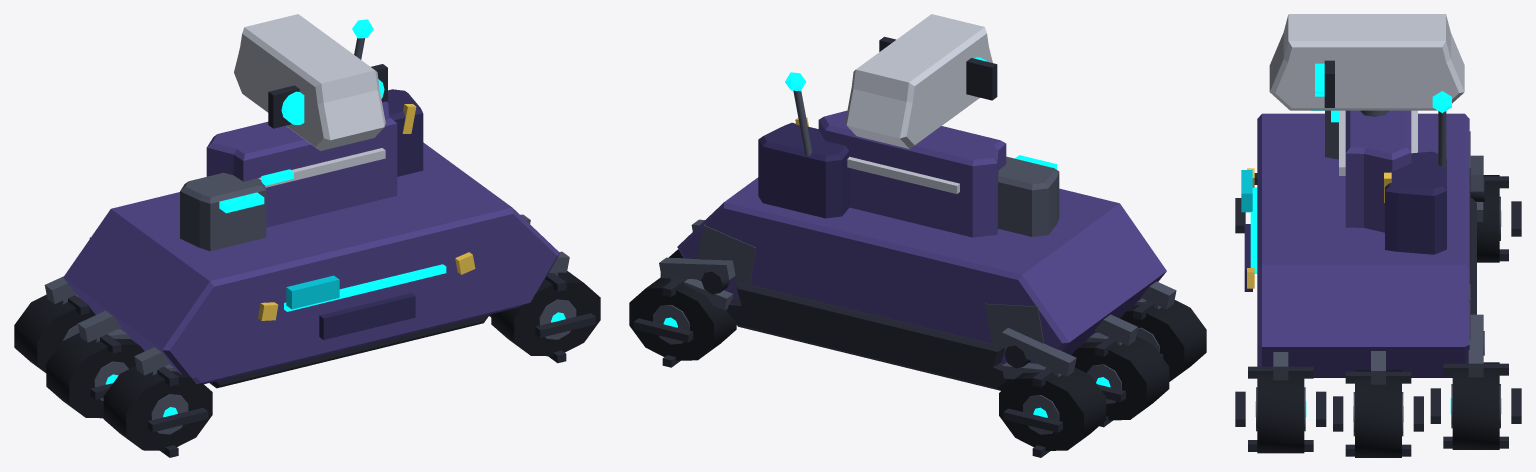
The model's file is kawsay_1_v2.glb.
The picture shows the model from 3 angles, left to right: view 1: azimuth 30°, elevation 25°; view 2: azimuth 150°, elevation 25°; view 3: azimuth 270°, elevation 25°; orthographic projection. The views are drawn at different scales.
Parts seen in each view (by area): view 1: Chassis_HexFrontVioletShell, NavCam_WideBeveledHead, UpperDeck_NarrowVioletDeck, Wheel_FL_CharcoalTire, InstrumentModule_MetalHousing, Wheel_FR_CharcoalTire, Wheel_ML_CharcoalTire, Wheel_RL_CharcoalTire, Chassis_DarkFrontInset, Chassis_GraphiteUnderside, PowerModule_CompactDarkViolet, FrontInstrumentSensor (+11 smaller); view 2: Chassis_HexFrontVioletShell, UpperDeck_NarrowVioletDeck, NavCam_WideBeveledHead, Chassis_GraphiteUnderside, PowerModule_CompactDarkViolet, Wheel_RL_CharcoalTire, Wheel_RR_CharcoalTire, InstrumentModule_MetalHousing, Wheel_ML_CharcoalTire, Wheel_FL_CharcoalTire, Chassis_RightMetalSlope, Chassis_LeftMetalSlope (+12 smaller); view 3: Chassis_HexFrontVioletShell, NavCam_WideBeveledHead, UpperDeck_NarrowVioletDeck, PowerModule_CompactDarkViolet, Wheel_RR_CharcoalTire, Wheel_FR_CharcoalTire, Wheel_MR_CharcoalTire, Wheel_RL_CharcoalTire, Wheel_RR, Wheel_MR, Wheel_FR, Chassis_GraphiteUnderside (+15 smaller).
Boxes of the visible parts, <box> form: Chassis_HexFrontVioletShell: <box>63,142,559,384</box>; NavCam_WideBeveledHead: <box>234,14,385,150</box>; UpperDeck_NarrowVioletDeck: <box>206,101,397,227</box>; Wheel_FL_CharcoalTire: <box>103,366,212,450</box>; InstrumentModule_MetalHousing: <box>180,172,266,251</box>; Wheel_FR_CharcoalTire: <box>491,271,600,356</box>; Wheel_ML_CharcoalTire: <box>46,333,144,418</box>; Wheel_RL_CharcoalTire: <box>14,294,95,372</box>; Chassis_DarkFrontInset: <box>319,293,415,339</box>; Chassis_GraphiteUnderside: <box>209,314,489,388</box>; PowerModule_CompactDarkViolet: <box>385,89,423,176</box>; FrontInstrumentSensor: <box>286,275,339,309</box>; Chassis_HexFrontVioletShell: <box>677,177,1166,363</box>; UpperDeck_NarrowVioletDeck: <box>818,110,1006,237</box>; NavCam_WideBeveledHead: <box>845,14,992,148</box>; Chassis_GraphiteUnderside: <box>726,281,1013,390</box>; PowerModule_CompactDarkViolet: <box>758,122,849,218</box>; Wheel_RL_CharcoalTire: <box>999,367,1106,450</box>; Wheel_RR_CharcoalTire: <box>629,277,736,360</box>; InstrumentModule_MetalHousing: <box>998,156,1059,236</box>; Wheel_ML_CharcoalTire: <box>1071,336,1169,420</box>; Wheel_FL_CharcoalTire: <box>1120,300,1206,381</box>; Chassis_RightMetalSlope: <box>697,224,756,284</box>; Chassis_LeftMetalSlope: <box>985,303,1043,344</box>; Chassis_HexFrontVioletShell: <box>1257,113,1469,377</box>; NavCam_WideBeveledHead: <box>1269,14,1464,110</box>; UpperDeck_NarrowVioletDeck: <box>1345,110,1411,232</box>; PowerModule_CompactDarkViolet: <box>1385,151,1446,254</box>; Wheel_RR_CharcoalTire: <box>1452,362,1499,449</box>; Wheel_FR_CharcoalTire: <box>1257,375,1304,453</box>; Wheel_MR_CharcoalTire: <box>1355,370,1401,457</box>; Wheel_RL_CharcoalTire: <box>1477,175,1499,262</box>; Wheel_RR: <box>1430,363,1521,448</box>; Wheel_MR: <box>1333,371,1423,456</box>; Wheel_FR: <box>1235,366,1326,451</box>; Chassis_GraphiteUnderside: <box>1313,198,1476,377</box>.
Bounding box in the file's own units: 3.1 × 1.91 × 1.52.
